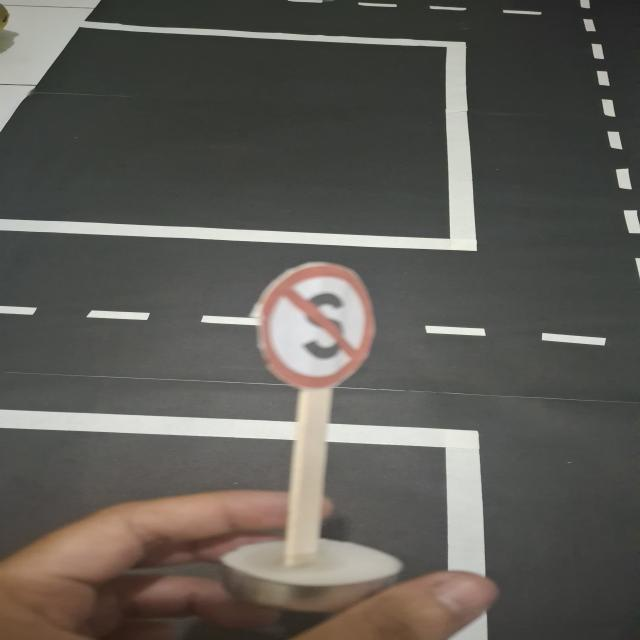Rambu Berhenti: (259, 262, 372, 391)
